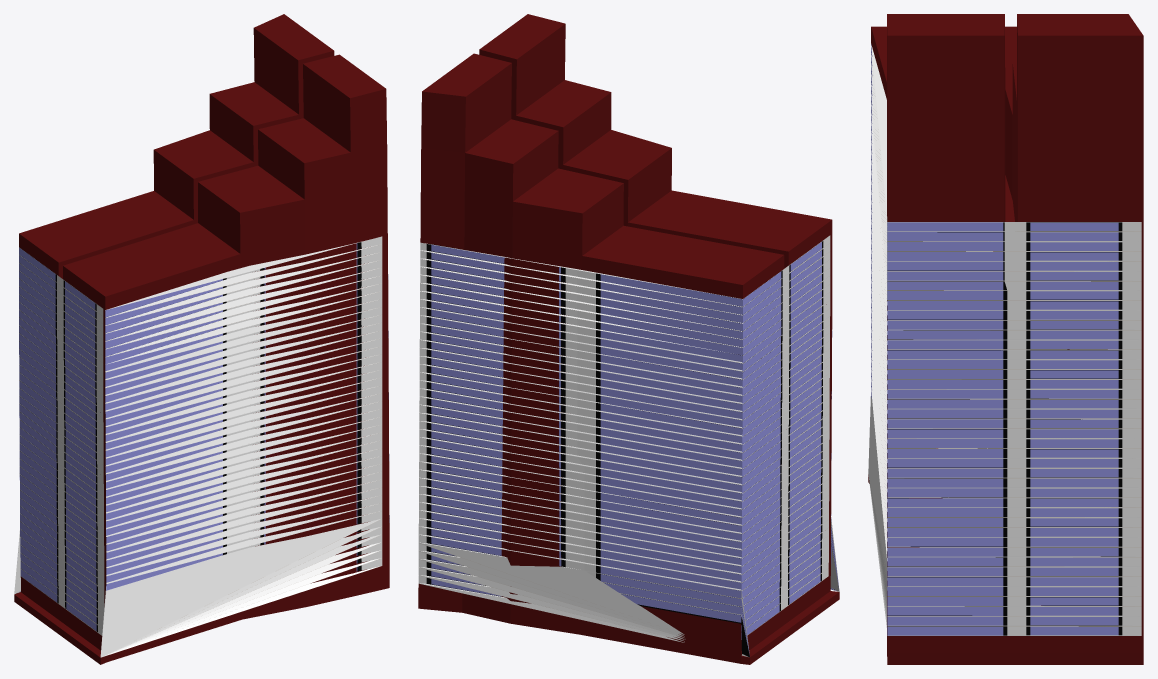
File: TheStaircase.fbx
The picture shows the model from 3 angles, left to right: view 1: azimuth 30°, elevation 25°; view 2: azimuth 150°, elevation 25°; view 3: azimuth 270°, elevation 25°; orthographic projection. The views are drawn at different scales.
Visible parts, largest first — view 1: TheStaircase, Window, Window.003; view 2: Window.002, TheStaircase, Window.003; view 3: Window.001, TheStaircase, Window.
Part boxes in pixels (box(x1,y1,x2,y2)): TheStaircase: box(14, 14, 389, 664); Window: box(100, 236, 382, 657); Window.003: box(19, 247, 104, 635); Window.002: box(418, 242, 749, 657); TheStaircase: box(418, 14, 839, 664); Window.003: box(741, 235, 830, 639); Window.001: box(887, 222, 1141, 635); TheStaircase: box(868, 14, 1143, 664); Window: box(868, 44, 887, 627).
Bounding box in the file's own units: 8074 × 13000 × 5172.
